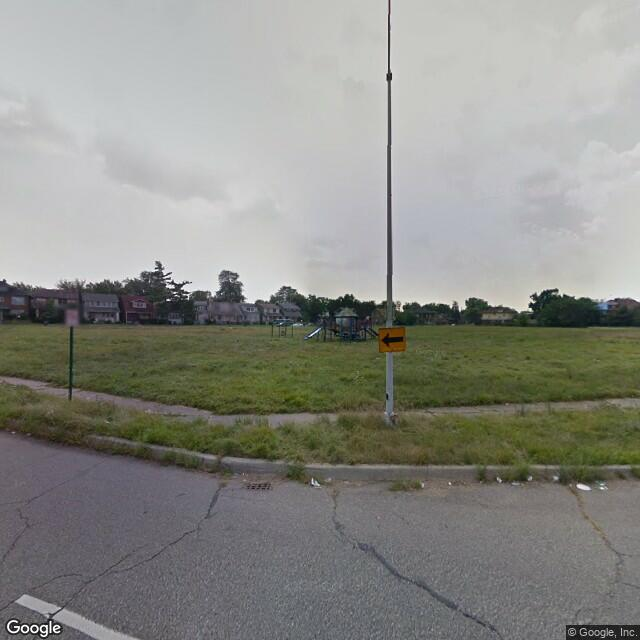litter: (573, 482, 593, 493), (307, 478, 323, 489), (548, 473, 559, 484), (524, 475, 536, 483), (600, 480, 607, 493), (416, 482, 428, 489), (491, 477, 504, 483), (509, 483, 522, 488), (24, 432, 34, 438), (10, 429, 17, 437), (448, 480, 453, 486)
